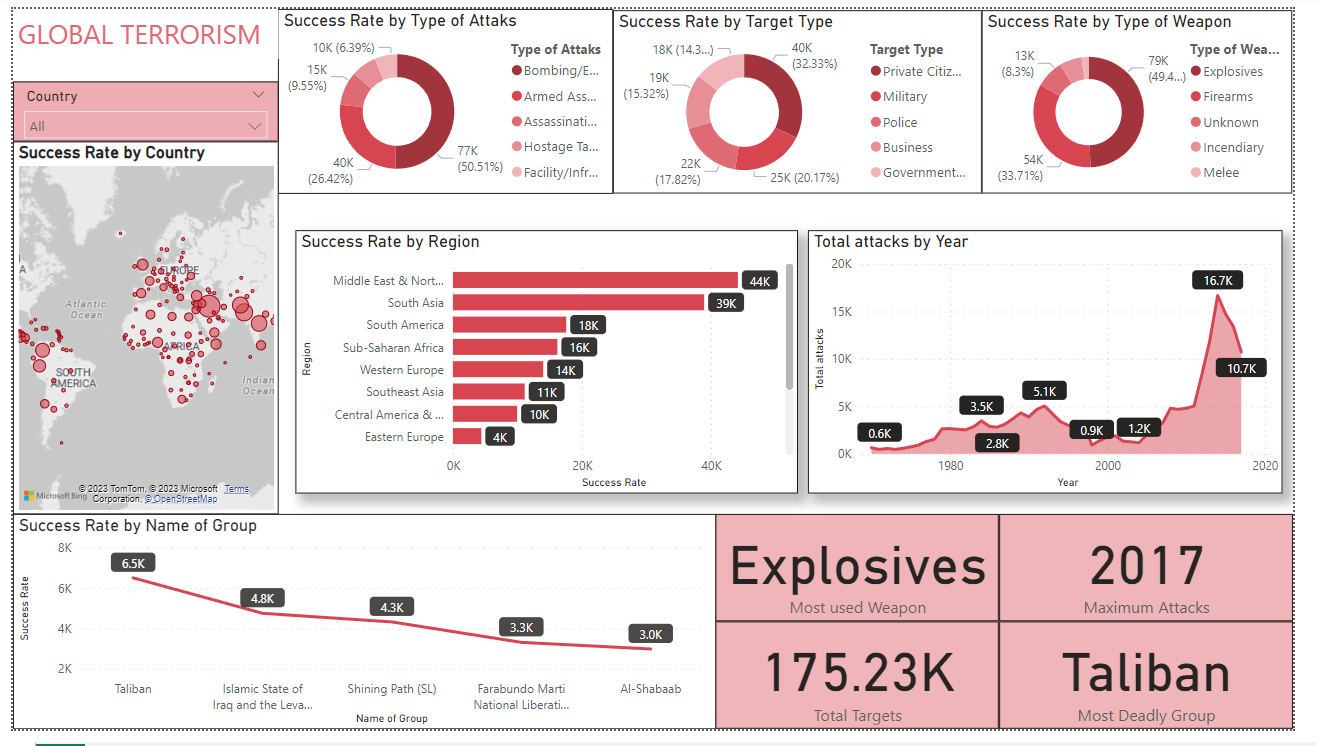

Layout of this report page (visuals, bound fields, positions):
{"tool":"powerbi","page":{"name":"Page 1","canvas":[1280,720],"ordinal":0},"visuals":[{"type":"donutChart","fields":{"Y":["Sum(Global terrorism Final Dataset.Success Rate)"],"Category":["Global terrorism Final Dataset.Type of Attaks"]},"box":[265.3,0,334.9,184.6],"z":0},{"type":"donutChart","fields":{"Y":["Sum(Global terrorism Final Dataset.Success Rate)"],"Category":["Global terrorism Final Dataset.Target Type"]},"box":[600.2,1.2,369.2,183.4],"z":1000},{"type":"donutChart","fields":{"Category":["Global terrorism Final Dataset.Type of Weapon"],"Y":["Sum(Global terrorism Final Dataset.Success Rate)"]},"box":[969.4,1.2,310.5,183.4],"z":2000},{"type":"map","title":"Success Rate by Country","fields":{"Category":["Global terrorism Final Dataset.Country"],"Size":["Sum(Global terrorism Final Dataset.Success Rate)"]},"box":[0,132,265.3,372.8],"z":3000},{"type":"barChart","fields":{"Category":["Global terrorism Final Dataset.Region"],"Y":["Sum(Global terrorism Final Dataset.Success Rate)"]},"box":[282.4,221.3,502.4,262.8],"z":4000},{"type":"lineChart","fields":{"Y":["Sum(Global terrorism Final Dataset.Success Rate)"],"Category":["Global terrorism Final Dataset.Name of Group"]},"box":[0,504.9,702.9,215.1],"z":5000},{"type":"areaChart","fields":{"Category":["Global terrorism Final Dataset.Year"],"Y":["CountNonNull(Global terrorism Final Dataset.Year)"]},"box":[794.6,221.3,474.3,262.8],"z":6000},{"type":"slicer","fields":{"Values":["Global terrorism Final Dataset.Country"]},"box":[0,72.1,265.3,59.9],"z":7000},{"type":"card","fields":{"Values":["Max(Global terrorism Final Dataset.Year)"]},"box":[986.5,504.9,293.4,107.6],"z":8000},{"type":"card","fields":{"Values":["Min(Global terrorism Final Dataset.Name of Group)"]},"box":[986.5,612.4,293.4,107.6],"z":9000},{"type":"card","fields":{"Values":["CountNonNull(Global terrorism Final Dataset.Type of Attaks)"]},"box":[702.9,612.4,283.6,107.6],"z":10000},{"type":"card","fields":{"Values":["Min(Global terrorism Final Dataset.Type of Weapon)"]},"box":[702.9,504.9,283.6,107.6],"z":11000},{"type":"textbox","box":[0,1.2,265.3,48.9],"z":12000}]}

Visuals, with their boxes in screenshot pixels (x1, y1, x2, y2), scaled from the page's 1280x720 canvas onto the 1317x746 screenshot:
donutChart - Sum(Global terrorism Final Dataset.Success Rate) x Global terrorism Final Dataset.Type of Attaks: box(273, 0, 618, 191)
donutChart - Sum(Global terrorism Final Dataset.Success Rate) x Global terrorism Final Dataset.Target Type: box(618, 1, 997, 191)
donutChart - Global terrorism Final Dataset.Type of Weapon x Sum(Global terrorism Final Dataset.Success Rate): box(997, 1, 1316, 191)
"Success Rate by Country" map: box(0, 137, 273, 523)
barChart - Global terrorism Final Dataset.Region x Sum(Global terrorism Final Dataset.Success Rate): box(291, 229, 807, 502)
lineChart - Sum(Global terrorism Final Dataset.Success Rate) x Global terrorism Final Dataset.Name of Group: box(0, 523, 723, 745)
areaChart - Global terrorism Final Dataset.Year x CountNonNull(Global terrorism Final Dataset.Year): box(818, 229, 1306, 502)
slicer - Global terrorism Final Dataset.Country: box(0, 75, 273, 137)
card - Max(Global terrorism Final Dataset.Year): box(1015, 523, 1316, 635)
card - Min(Global terrorism Final Dataset.Name of Group): box(1015, 635, 1316, 745)
card - CountNonNull(Global terrorism Final Dataset.Type of Attaks): box(723, 635, 1015, 745)
card - Min(Global terrorism Final Dataset.Type of Weapon): box(723, 523, 1015, 635)
textbox: box(0, 1, 273, 52)
